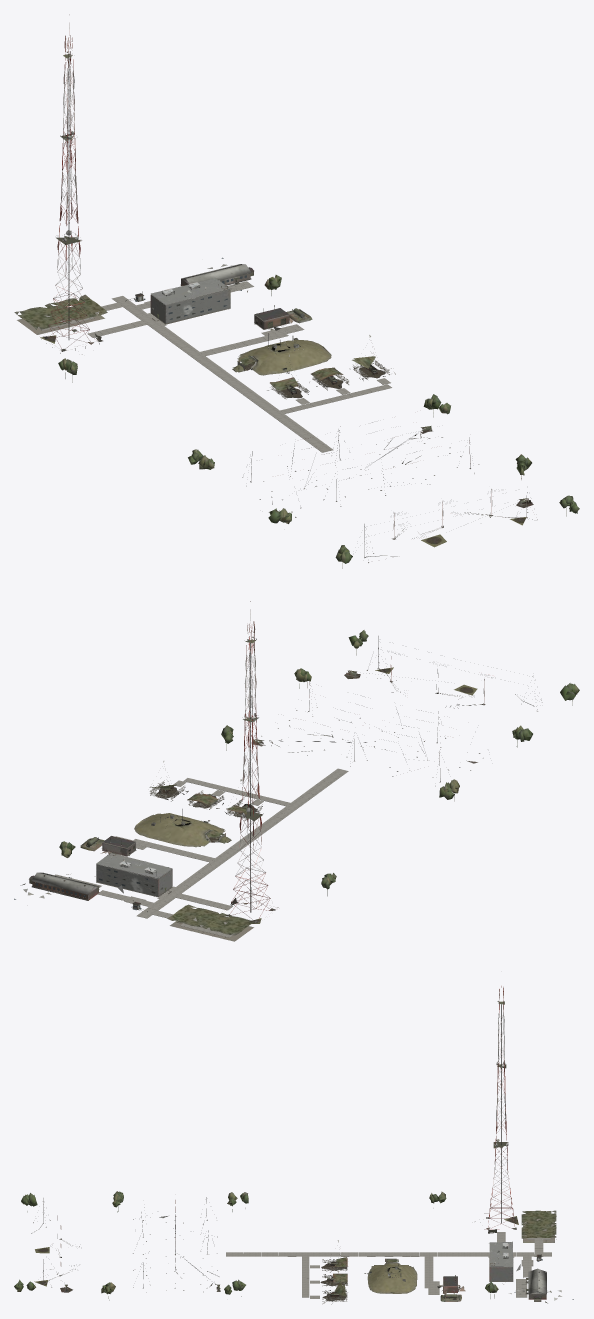
The model's file is site_tv_city_lo.glb.
3 renders of one model, top to bottom at view 1: azimuth 30°, elevation 25°; view 2: azimuth 150°, elevation 25°; view 3: azimuth 270°, elevation 25°, orthographic. The views are drawn at different scales.
Parts seen in each view (by area): view 1: deco|tile_conc, b_tech|F_A, b_tower|F_A, deco_trees|F_A, deco|F_A, b_bunker1|F_A, b_tower_ruin_fall|F_B, b_bunker1_ruin|F_B, b_barracks|F_A, b_des|F_A; view 2: deco|tile_conc, b_tech|F_A, b_tower|F_A, deco_trees|F_A, deco|F_A, b_bunker1|F_A, b_barracks|F_A, b_bunker1_ruin|F_B, b_tower_ruin_fall|F_B, b_des|F_A, b_tech_ruin|F_B; view 3: deco|tile_conc, deco_trees|F_A, b_tower|F_A, deco|F_A, b_bunker1|F_A, b_tech|F_A, b_bunker1_ruin|F_B, b_barracks|F_A, b_tower_ruin_fall|F_B.
Part boxes in pixels (x1,y1,x2,y2): deco|tile_conc: (38,281,391,452); b_tech|F_A: (150,279,230,324); b_tower|F_A: (41,22,102,353); deco_trees|F_A: (58,275,579,568); deco|F_A: (14,294,107,334); b_bunker1|F_A: (233,333,331,375); b_tower_ruin_fall|F_B: (59,14,78,225); b_bunker1_ruin|F_B: (232,338,331,375); b_barracks|F_A: (180,264,253,285); b_des|F_A: (254,305,312,329); deco|tile_conc: (55,768,348,937); b_tech|F_A: (96,852,172,897); b_tower|F_A: (226,609,278,923); deco_trees|F_A: (59,630,579,896); deco|F_A: (167,904,256,941); b_bunker1|F_A: (134,809,230,847); b_barracks|F_A: (29,872,99,900); b_bunker1_ruin|F_B: (135,813,231,846); b_tower_ruin_fall|F_B: (241,601,259,803); b_des|F_A: (80,836,135,856); b_tech_ruin|F_B: (96,852,171,896); deco|tile_conc: (226,1220,551,1298); deco_trees|F_A: (14,1191,498,1300); b_tower|F_A: (484,989,516,1233); deco|F_A: (521,1210,556,1242); b_bunker1|F_A: (364,1258,417,1293); b_tech|F_A: (489,1242,513,1281); b_bunker1_ruin|F_B: (368,1261,417,1293); b_barracks|F_A: (525,1268,546,1301); b_tower_ruin_fall|F_B: (496,985,506,1133).
Bounding box in the file's own units: 162 × 194 × 390.
34 materials, 26 textured.
